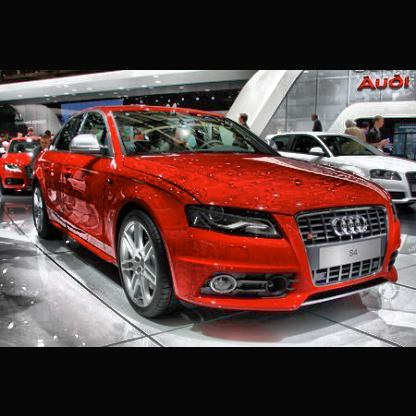Audi S4 Sedan 2012: (30, 103, 404, 321)
